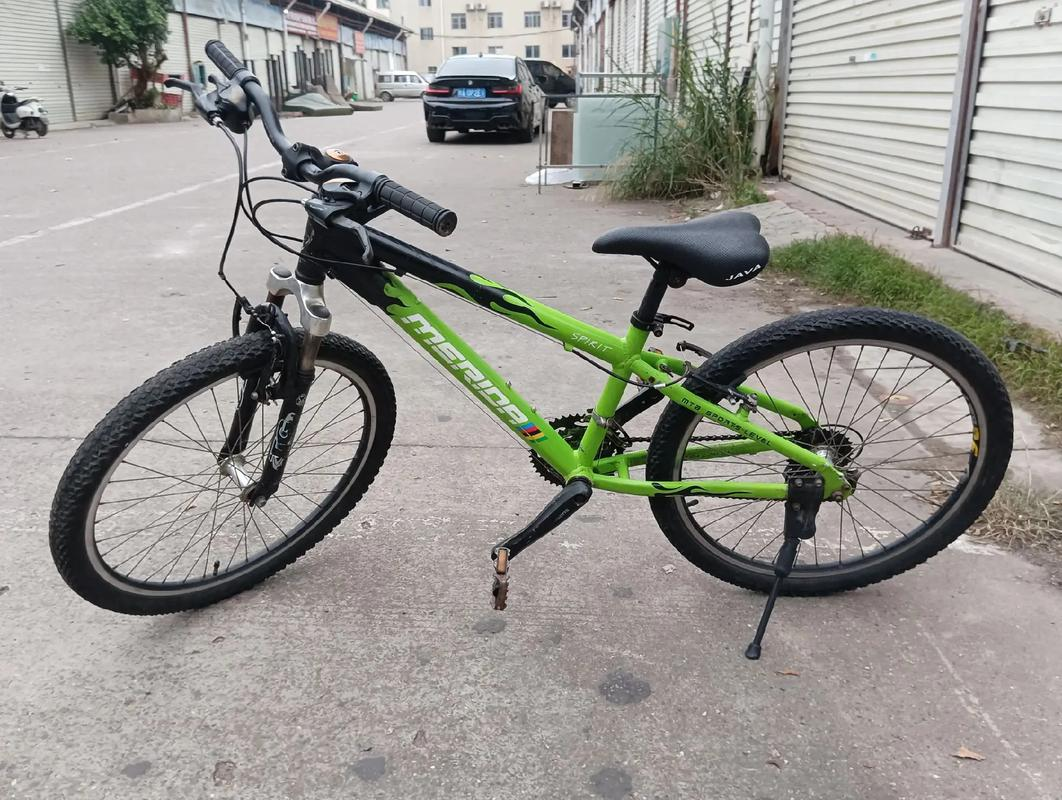单车: (48, 27, 1034, 691)
